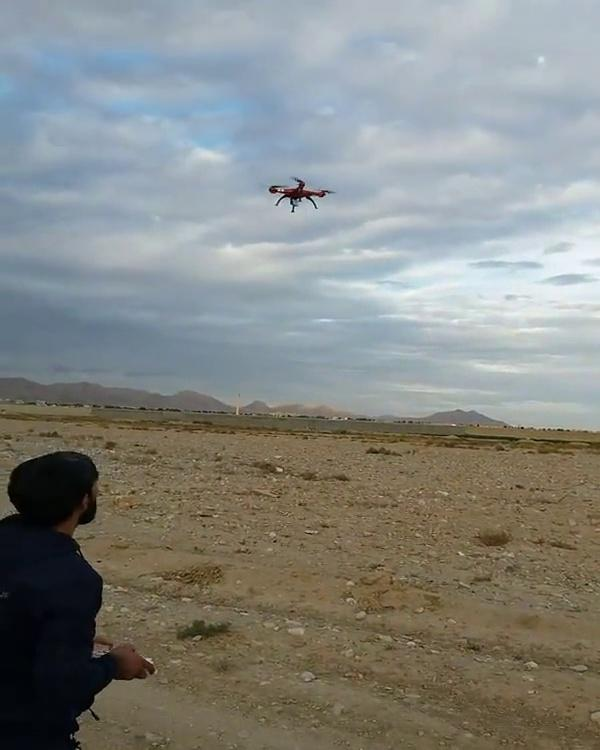drone: (261, 172, 337, 217)
